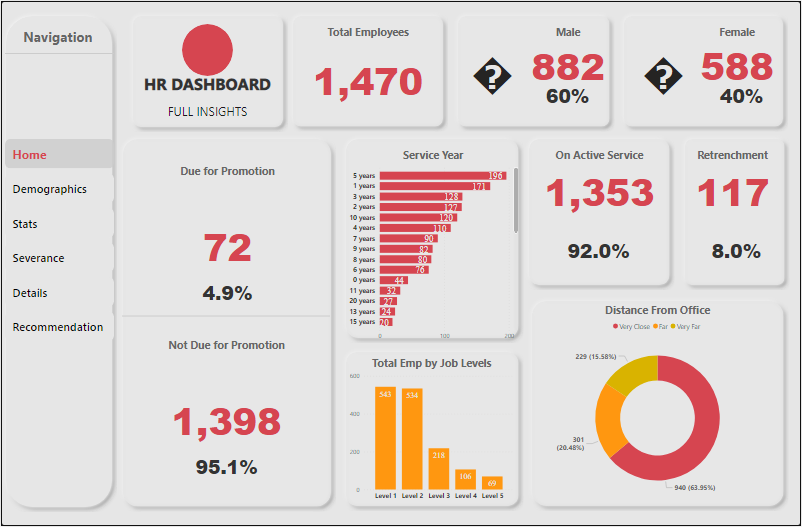

Layout of this report page (visuals, bound fields, positions):
{"tool":"powerbi","page":{"name":" Home","canvas":[1600,1050],"ordinal":0},"visuals":[{"type":"shape","box":[0,20,232,1002],"z":0},{"type":"shape","box":[253.3,20,320,241.7],"z":1000},{"type":"shape","box":[573.9,20,320,241.1],"z":2000},{"type":"shape","box":[903.7,20,323.2,241.1],"z":3000},{"type":"shape","box":[1236.1,20,337.8,241.1],"z":4000},{"type":"shape","box":[234.1,265,435.9,755.3],"z":5000},{"type":"shape","box":[680,265,365,417.5],"z":6000},{"type":"shape","box":[680,692,365.3,328],"z":7000},{"type":"shape","box":[1051,590,523,430],"z":8000},{"type":"shape","box":[1045.6,265,301.1,312.2],"z":9000},{"type":"shape","box":[1358.4,265,219.5,311.6],"z":10000},{"type":"textbox","box":[260,138,306,78],"z":11000},{"type":"textbox","box":[260,198,306,78],"z":12000},{"type":"shape","box":[362,46,102,104],"z":13000},{"type":"card","title":"Total Employees","fields":{"Values":["All Measures.Total Emp"]},"box":[584,46,300,192],"z":14000},{"type":"card","title":"Male","fields":{"Values":["All Measures.Males"]},"box":[1054.3,45.7,160,131.4],"z":15000},{"type":"card","title":"Male","fields":{"Values":["All Measures.% Males"]},"box":[1064,146,138,86],"z":16000},{"type":"card","title":"Female","fields":{"Values":["All Measures.Females"]},"box":[1382,46,180,132],"z":17000},{"type":"card","title":"Male","fields":{"Values":["All Measures.% Females"]},"box":[1412,146,138,86],"z":18000},{"type":"shape","title":"🙎♀️","box":[1286,84,96,106],"z":19000},{"type":"shape","title":"🙎♂️","box":[944,84,96,106],"z":20000},{"type":"card","title":"Due for Promotion","fields":{"Values":["All Measures.Due for promotion"]},"box":[246,324,414,300],"z":21000},{"type":"card","title":"Not Due for Promotion","fields":{"Values":["All Measures.% Due for promotion"]},"box":[320,486,266,196],"z":22000},{"type":"card","title":"Not Due for Promotion","fields":{"Values":["All Measures.% Not due"]},"box":[318,834,266,196],"z":23000},{"type":"card","title":"Not Due for Promotion","fields":{"Values":["All Measures.Not due"]},"box":[244,672,414,300],"z":24000},{"type":"shape","box":[242,624,416,12],"z":25000},{"type":"barChart","title":"Service Year","fields":{"Category":["HR Analytics Data.Service Year"],"Y":["All Measures.Total Emp"]},"box":[690,291.4,348.6,395.7],"z":26000},{"type":"columnChart","title":"Total Emp by Job Levels ","fields":{"Category":["HR Analytics Data.Job Levels"],"Y":["All Measures.Total Emp"]},"box":[691.4,708.6,338.6,300],"z":27000},{"type":"card","title":"On Active Service","fields":{"Values":["All Measures.Active Service"]},"box":[1062.9,291.4,270,142.9],"z":28000},{"type":"card","title":"Male","fields":{"Values":["All Measures.% Active Service"]},"box":[1110,455.7,170,85.7],"z":29000},{"type":"card","title":"Retrenchment","fields":{"Values":["All Measures.To be Retrenched"]},"box":[1328.6,291.4,270,142.9],"z":30000},{"type":"card","title":"Male","fields":{"Values":["All Measures.% To be Retrenched"]},"box":[1381.4,455.7,177.1,85.7],"z":31000},{"type":"donutChart","title":"Distance From Office","fields":{"Category":["HR Analytics Data.Distance Status"],"Y":["All Measures.Total Emp"]},"box":[1063.3,601.7,498.3,406.7],"z":32000},{"type":"textbox","box":[22,48,184,50],"z":33000},{"type":"shape","box":[8,98,218,14],"z":34000},{"type":"pageNavigator","title":"Page navigator","box":[8,276,218,406],"z":40000}]}

Visuals, with their boxes in screenshot pixels (x1, y1, x2, y2), scaled from the page's 1600x1050 canvas onto the 802x527 screenshot:
shape: 0:10:116:513
shape: 127:10:287:131
shape: 288:10:448:131
shape: 453:10:615:131
shape: 620:10:789:131
shape: 117:133:336:512
shape: 341:133:524:343
shape: 341:347:524:512
shape: 527:296:789:512
shape: 524:133:675:290
shape: 681:133:791:289
textbox: 130:69:284:108
textbox: 130:99:284:139
shape: 181:23:233:75
"Total Employees" card: 293:23:443:119
"Male" card: 528:23:609:89
"Male" card: 533:73:603:116
"Female" card: 693:23:783:89
"Male" card: 708:73:777:116
"🙎♀️" shape: 645:42:693:95
"🙎♂️" shape: 473:42:521:95
"Due for Promotion" card: 123:163:331:313
"Not Due for Promotion" card: 160:244:294:342
"Not Due for Promotion" card: 159:419:293:517
"Not Due for Promotion" card: 122:337:330:488
shape: 121:313:330:319
"Service Year" barChart: 346:146:521:345
"Total Emp by Job Levels " columnChart: 347:356:516:506
"On Active Service" card: 533:146:668:218
"Male" card: 556:229:642:272
"Retrenchment" card: 666:146:801:218
"Male" card: 692:229:781:272
"Distance From Office" donutChart: 533:302:783:506
textbox: 11:24:103:49
shape: 4:49:113:56
"Page navigator" pageNavigator: 4:139:113:342
